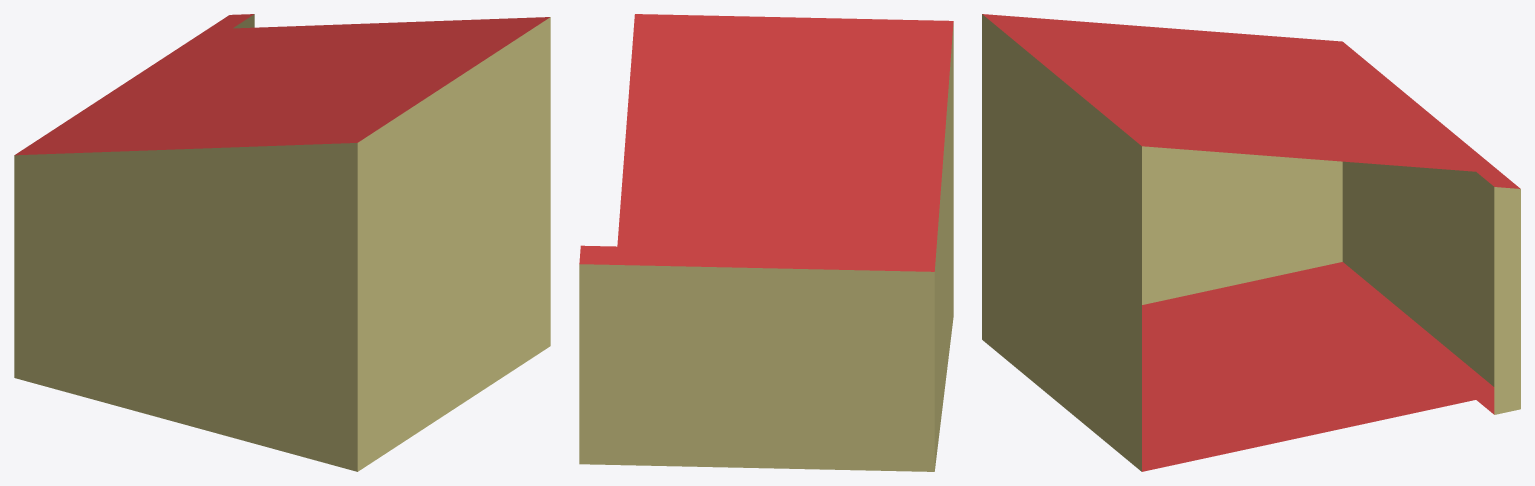
3 views of the same model, side by side, from view 1: azimuth 30°, elevation 25°; view 2: azimuth 150°, elevation 25°; view 3: azimuth 270°, elevation 25° (orthographic). The views are drawn at different scales.
Visible parts, largest first — view 1: group_4, group_3; view 2: group_3, group_4; view 3: group_4, group_5, group_3.
Part boxes in pixels (bbox=[...]): group_4: bbox=[14, 14, 550, 471]; group_3: bbox=[14, 14, 549, 155]; group_3: bbox=[579, 14, 953, 271]; group_4: bbox=[579, 23, 953, 471]; group_4: bbox=[982, 14, 1520, 471]; group_5: bbox=[1142, 262, 1494, 471]; group_3: bbox=[982, 14, 1520, 188].
Size of the model in its own units: 9.53 by 10.32 by 6.88.
